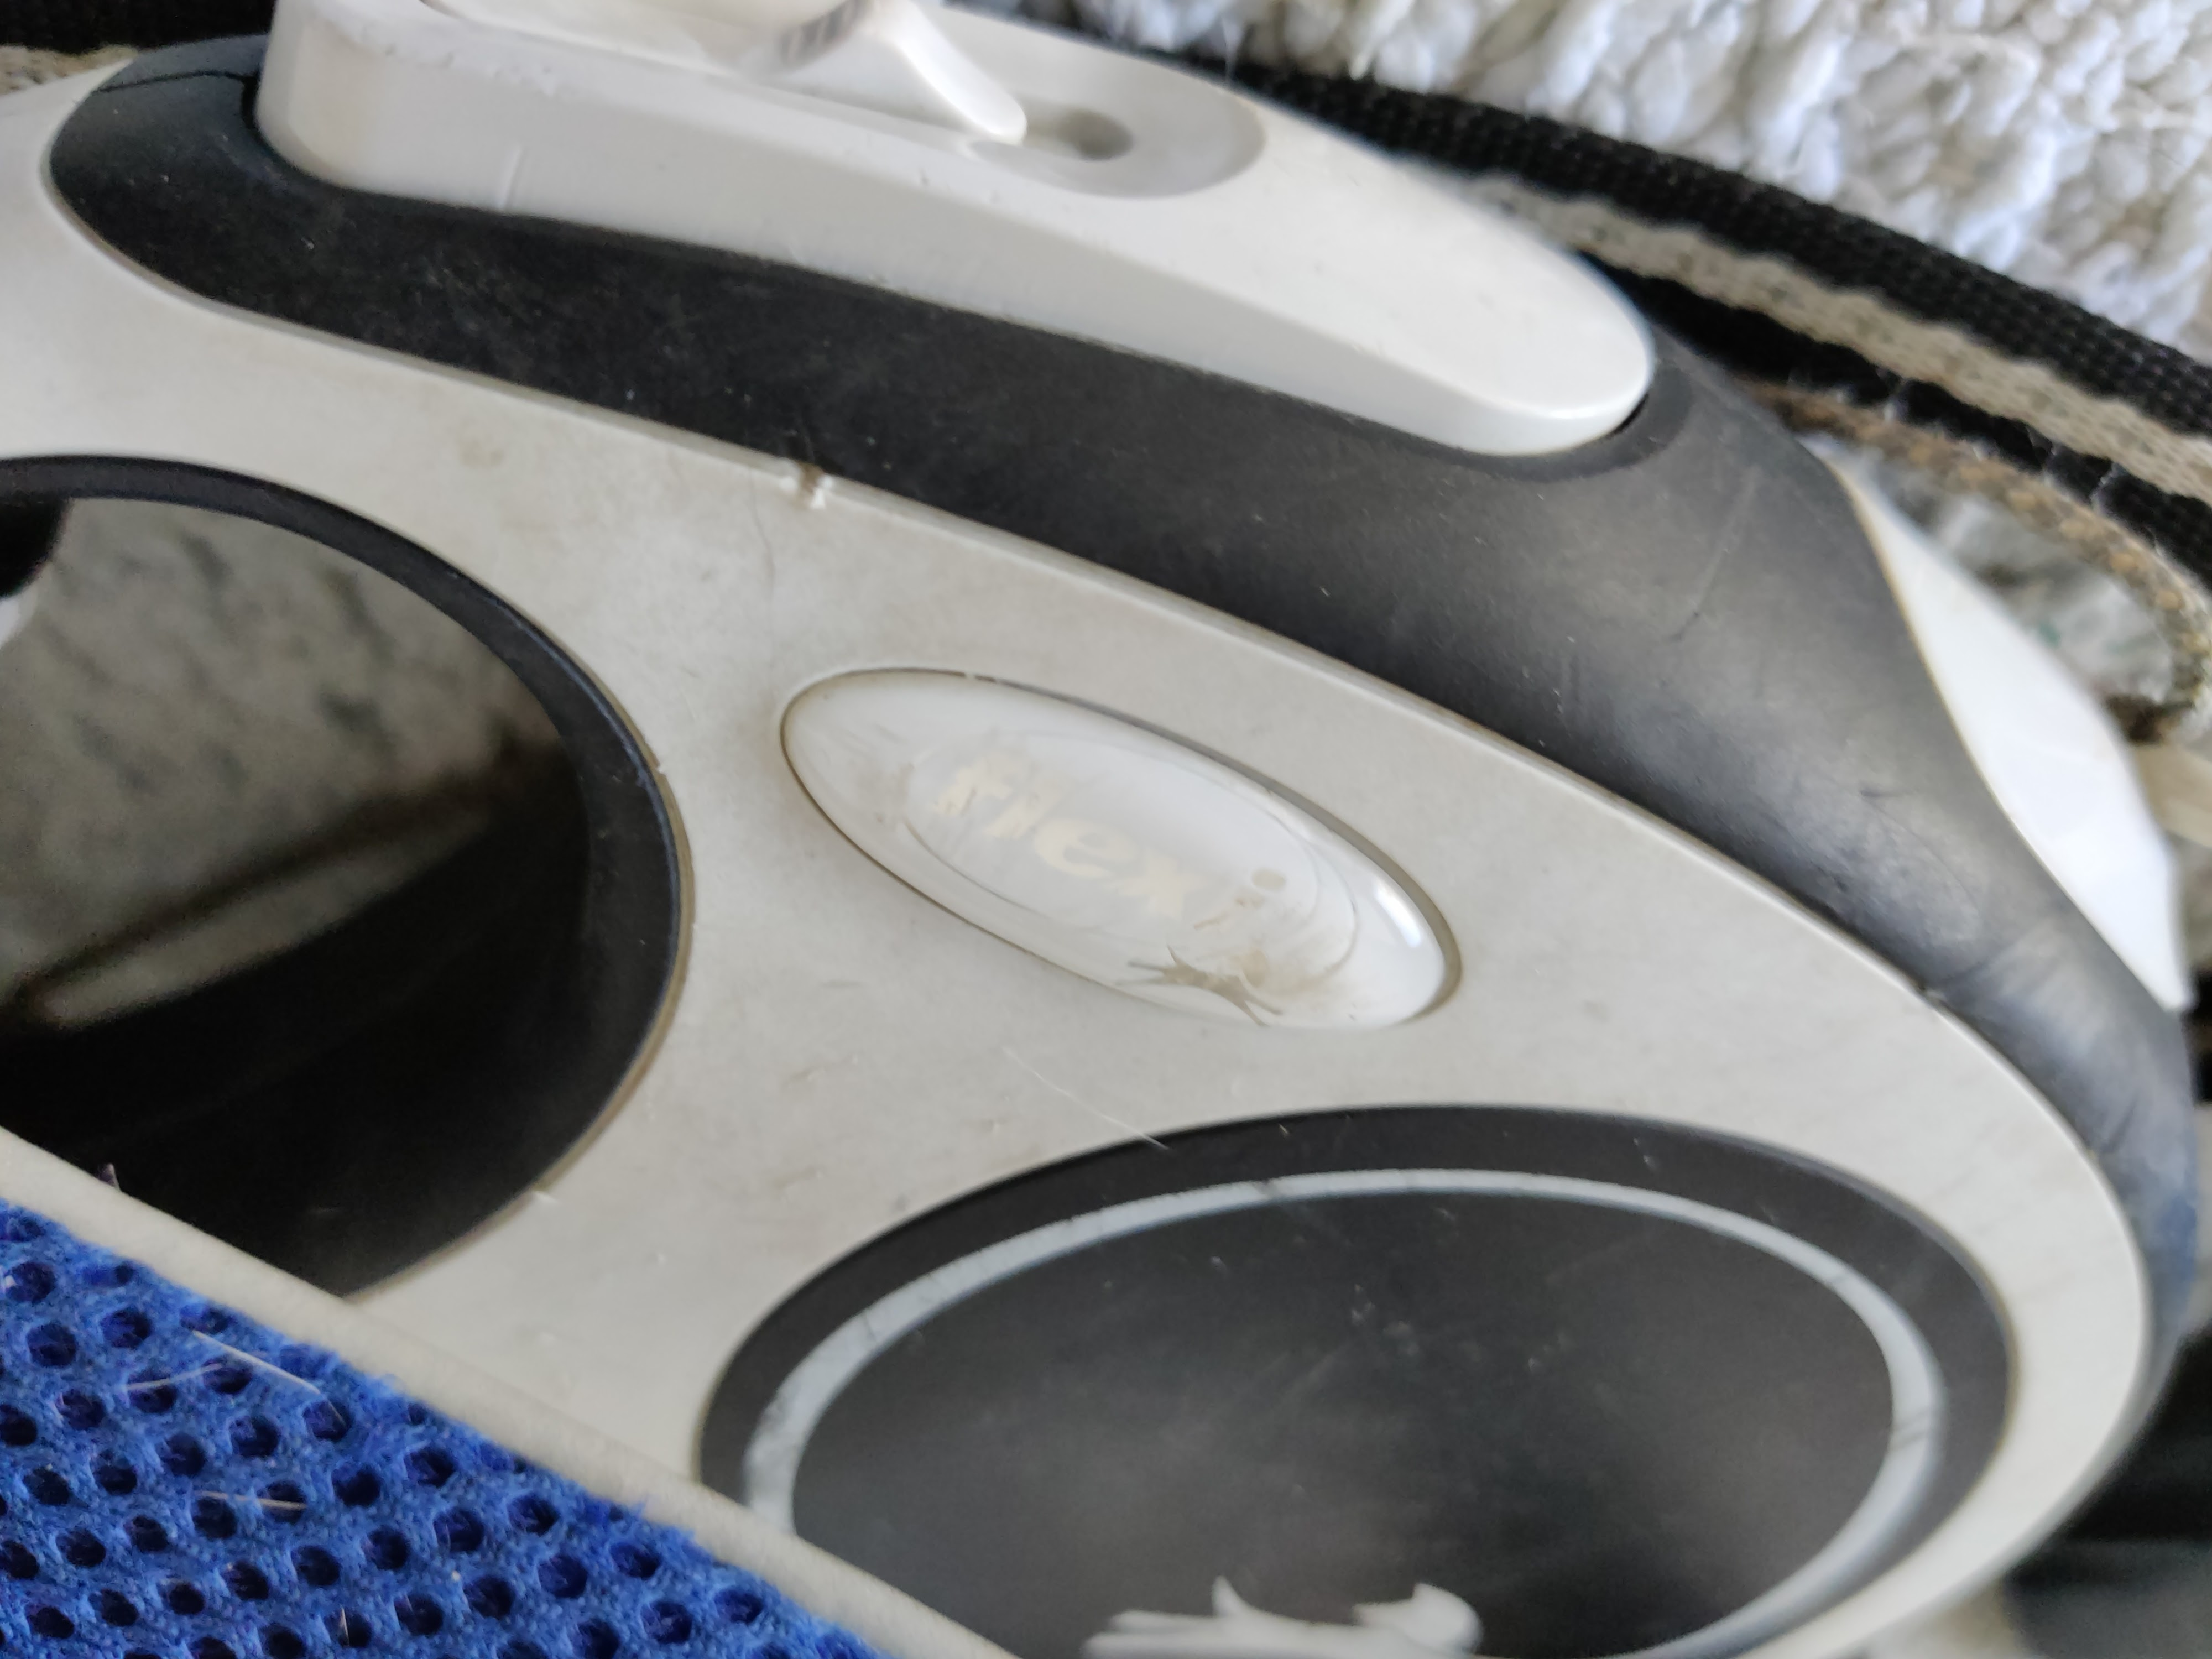Dog: (1113, 939, 1285, 1030)
